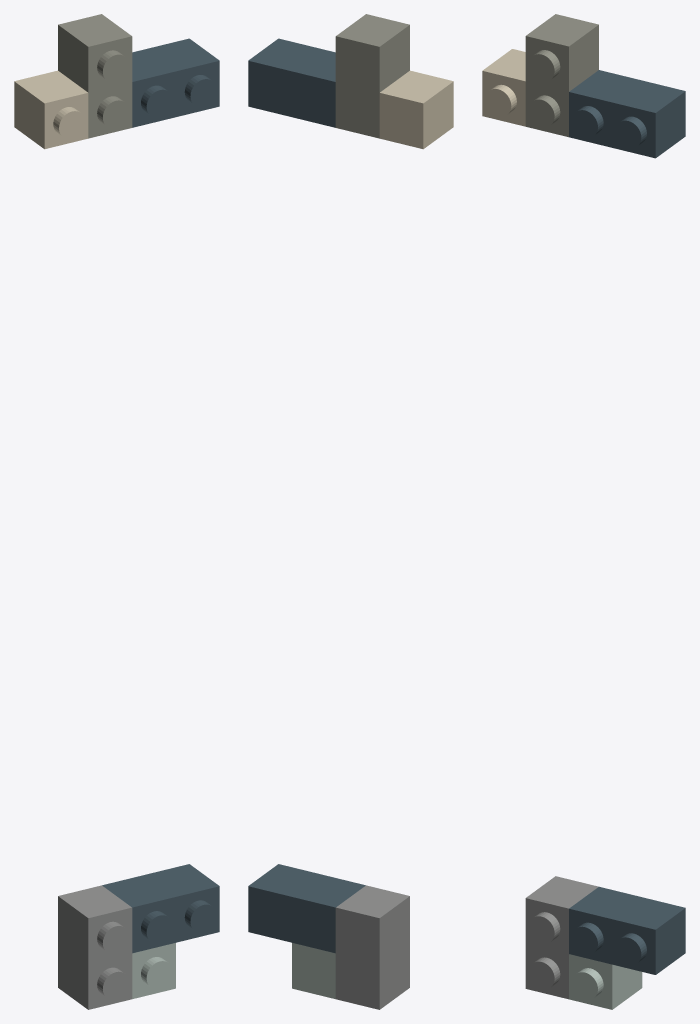
The model's file is current.glb.
3 renders of one model, left to right at view 1: azimuth 30°, elevation 25°; view 2: azimuth 150°, elevation 25°; view 3: azimuth 330°, elevation 25°, orthographic.
Visible parts, largest first — view 1: world; view 2: world; view 3: world.
Boxes of the visible parts, x1=… form: world: x1=14, y1=14, x2=219, y2=1009; world: x1=248, y1=14, x2=453, y2=1009; world: x1=482, y1=14, x2=685, y2=1009.
Bounding box in the file's own units: 32 × 168 × 11.4.
